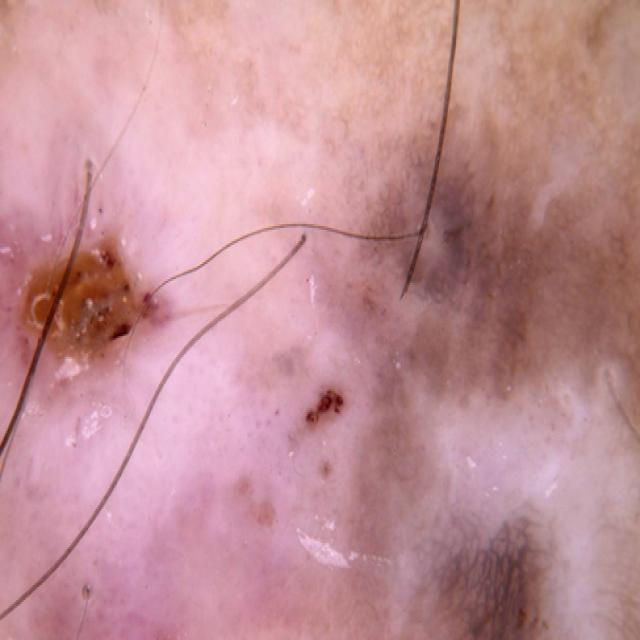Dermatofibroma: (0, 188, 219, 431), (394, 509, 607, 640), (272, 339, 408, 503)
